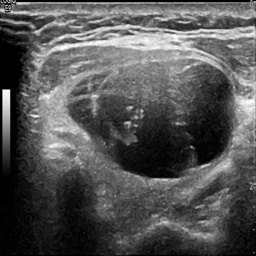mass: (66, 58, 236, 176)
